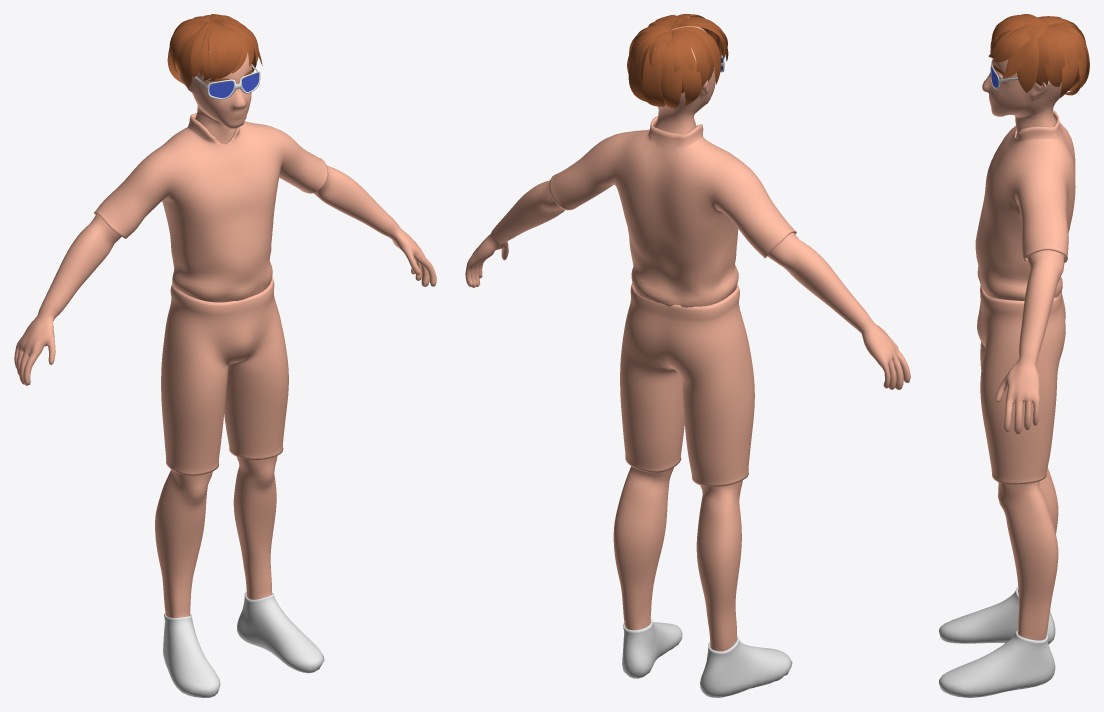
The model's file is BillysFriend 1.fbx.
3 renders of one model, left to right at view 1: azimuth 30°, elevation 25°; view 2: azimuth 150°, elevation 25°; view 3: azimuth 270°, elevation 25°, orthographic. The views are drawn at different scales.
Parts seen in each view (by area): view 1: Shirt, Billy_Body, Shorts, Shoes, Hair, Glasses; view 2: Shirt, Billy_Body, Shorts, Hair, Shoes; view 3: Billy_Body, Shirt, Shorts, Shoes, Hair.
Boxes of the visible parts, box(x1,y1,x2,y2) form: Shirt: box(94, 113, 328, 302); Billy_Body: box(14, 52, 436, 617); Shorts: box(161, 276, 288, 475); Shoes: box(163, 592, 324, 697); Hair: box(167, 14, 262, 88); Glasses: box(195, 64, 260, 99); Shirt: box(549, 116, 796, 307); Billy_Body: box(465, 26, 910, 651); Shorts: box(620, 283, 754, 486); Hair: box(627, 14, 728, 108); Shoes: box(622, 617, 792, 697); Billy_Body: box(982, 58, 1064, 640); Shirt: box(975, 110, 1075, 300); Shorts: box(977, 285, 1065, 484); Shoes: box(939, 587, 1055, 697); Hair: box(988, 14, 1089, 97).
Size of the model in its own units: 114 by 167 by 35.47.
